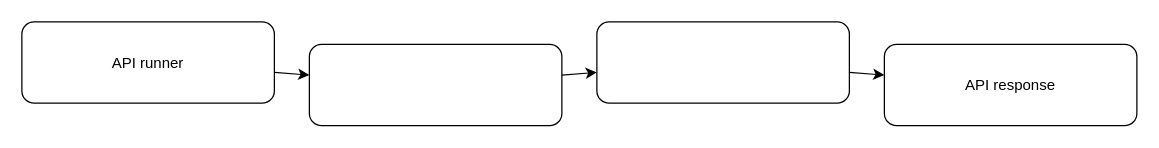
Image size: 1159x148. Some labels were removed from this diagram. Each missing label, with the centre of its shape:
"Bearer/session" belongs at [435,84].
"Trusted Host + RBAC" belongs at [722,62].
